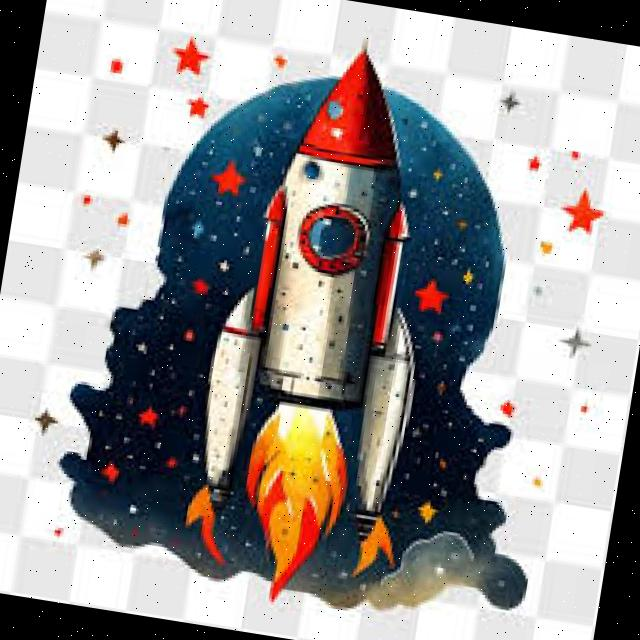rocket: (195, 40, 423, 561)
